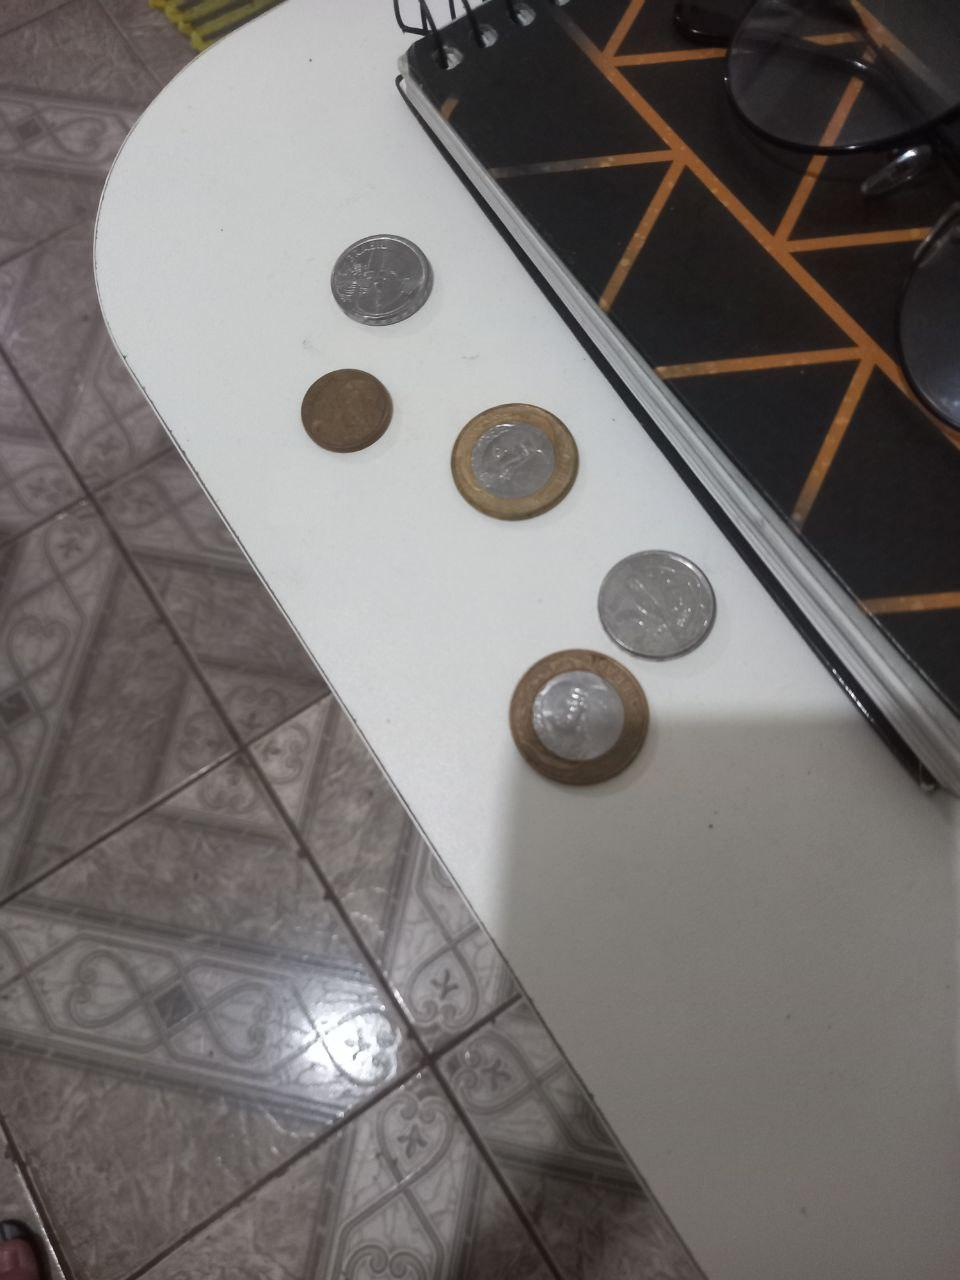1 real: (507, 648, 649, 788), (448, 399, 582, 525)
10 cent: (297, 366, 393, 454)
25 cent: (595, 549, 716, 661), (330, 234, 433, 331)
